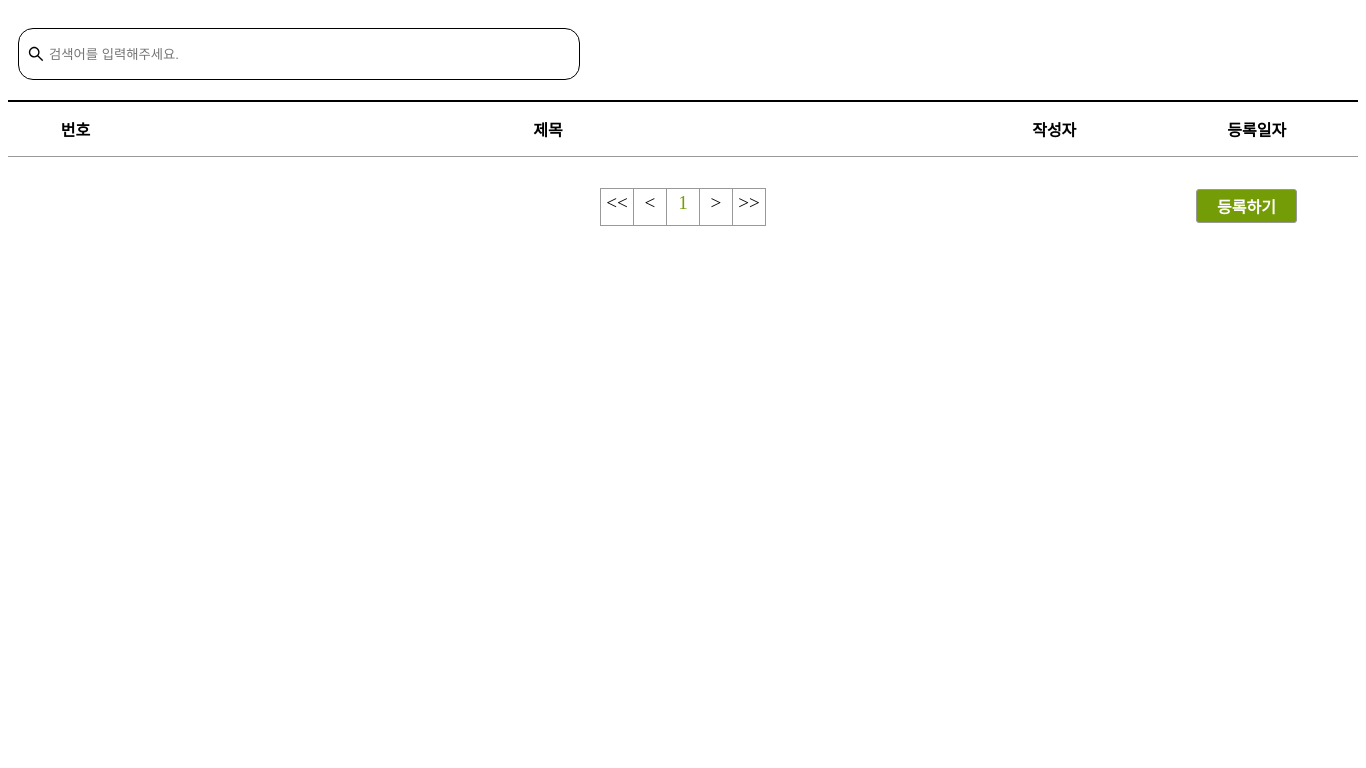
Scenario: 자유게시판 목록 페이지 Unit Test & Integration Test › 검색창 Component › 검색어 입력시 페이지 변경합니다.
Type "테스트" into the field with placeholder "검색어를 입력해주세요." at [299, 54], box x1=18 y1=28 x2=580 y2=80
(page scrolled)
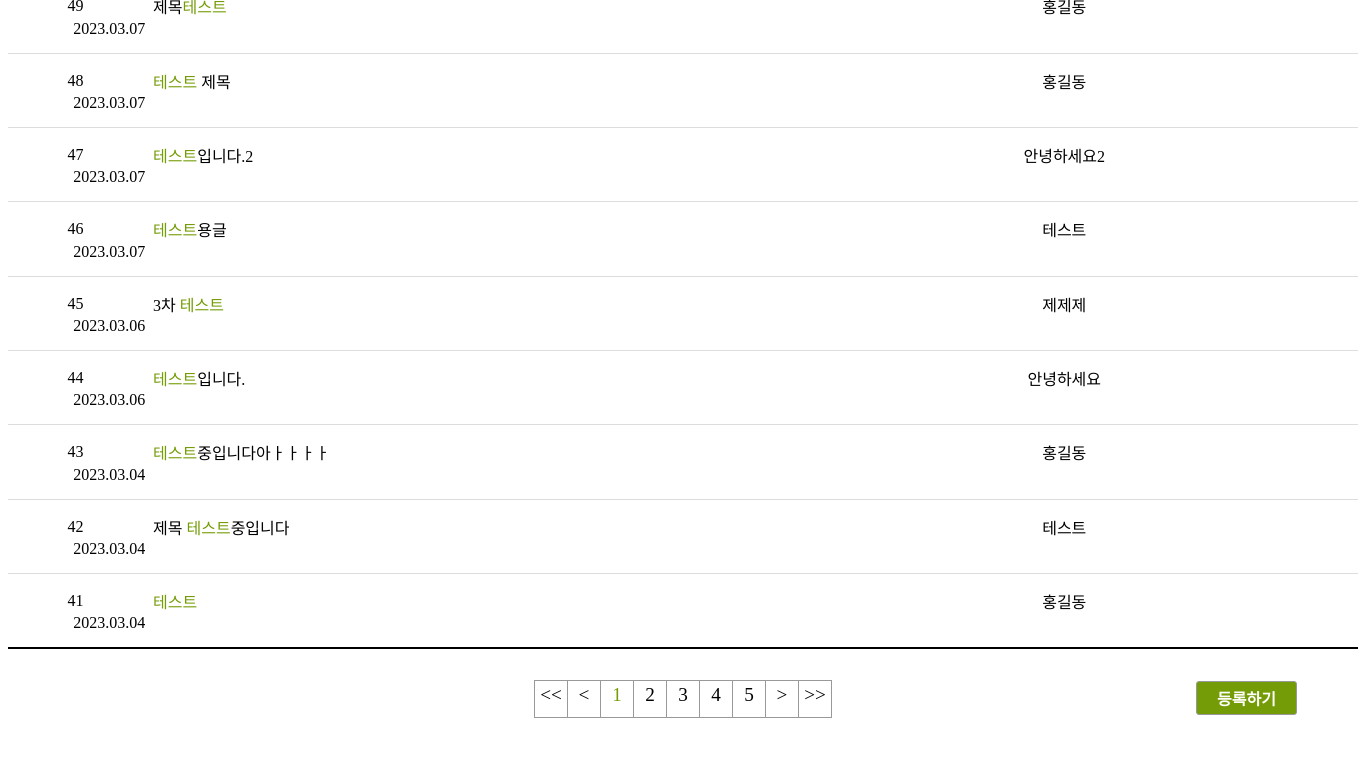
Expected: the text "테스트" in the row of "49" is shown, x1=182 y1=0 x2=227 y2=16
Expected: the text "테스트" next to "48" is shown, x1=153 y1=74 x2=197 y2=91
Expected: the text "테스트" next to "입니다.2" is shown, x1=153 y1=148 x2=197 y2=165
